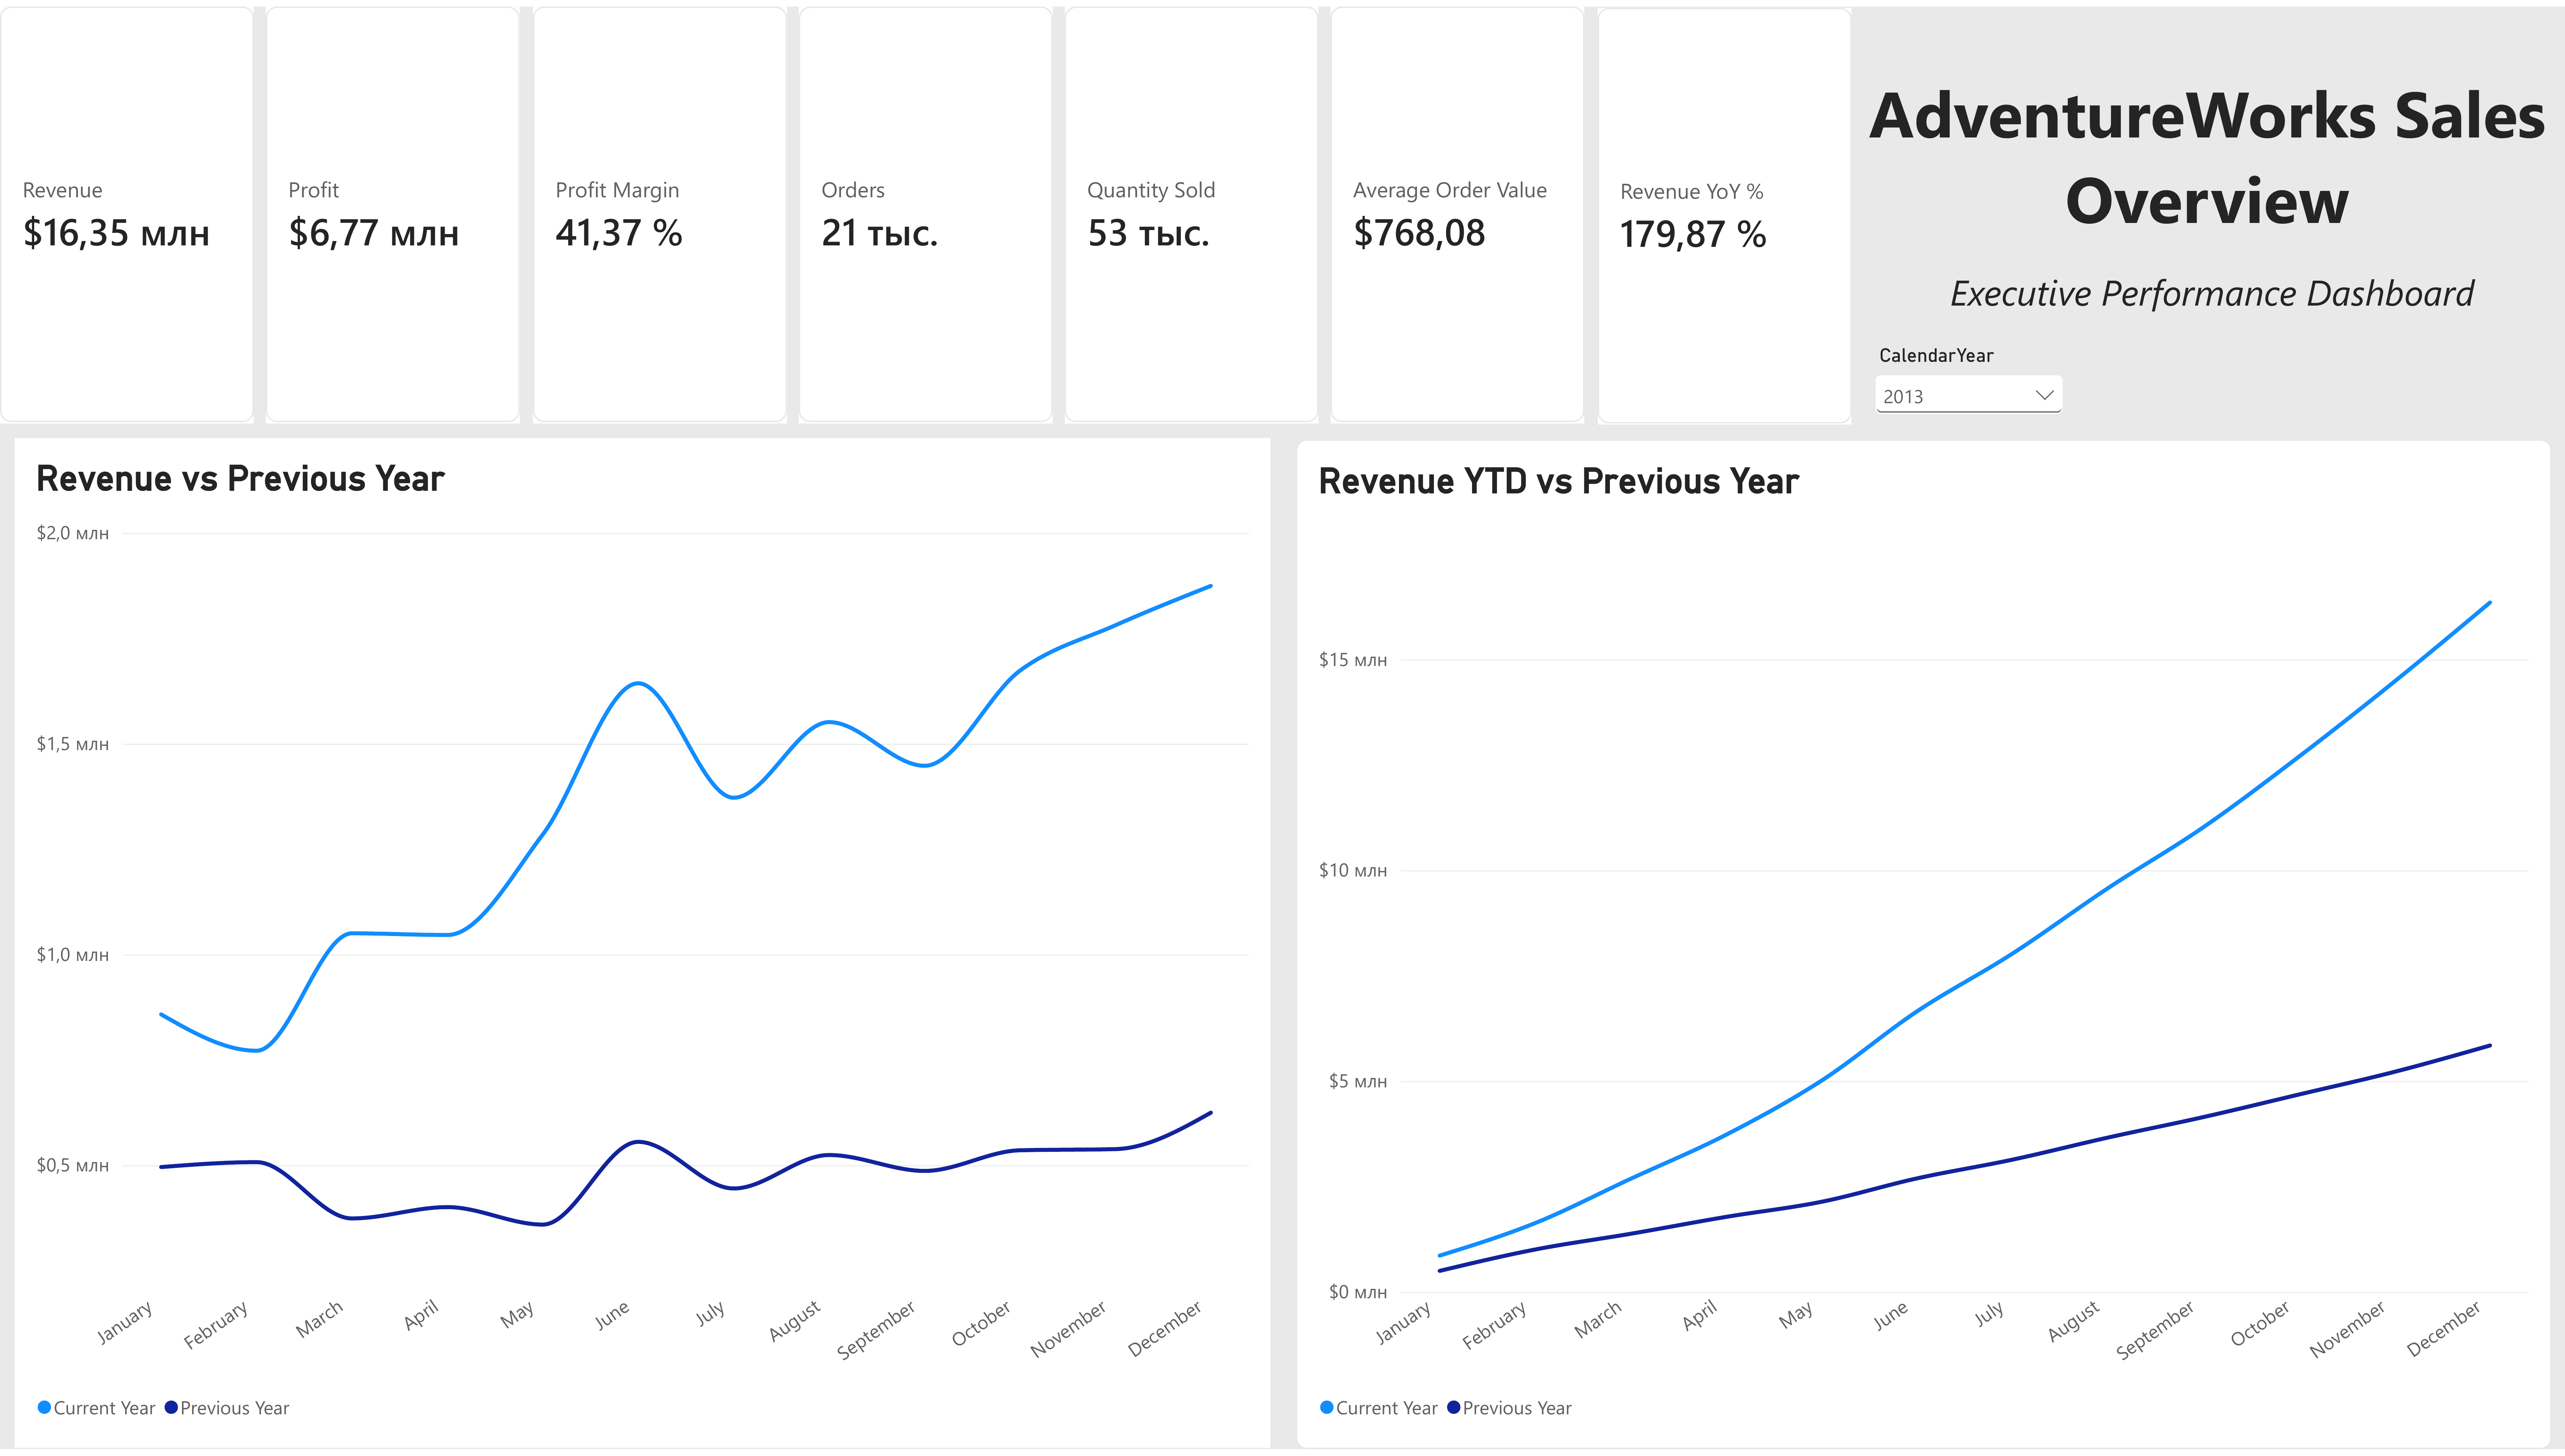

The dashboard page shown, as its layout file describes it:
{"tool":"powerbi","page":{"name":"Executive Overview","canvas":[1920,1080],"ordinal":0},"visuals":[{"type":"cardVisual","fields":{"Data":["FactInternetSales.Average Order Value"]},"box":[996.4,0,190,311.7],"z":0},{"type":"cardVisual","fields":{"Data":["FactInternetSales.Orders"]},"box":[597.9,0,190,311.7],"z":1000},{"type":"cardVisual","fields":{"Data":["FactInternetSales.Profit"]},"box":[199.3,0,190,311.7],"z":2000},{"type":"cardVisual","fields":{"Data":["FactInternetSales.Profit Margin"]},"box":[398.6,0,190,311.7],"z":3000},{"type":"cardVisual","fields":{"Data":["FactInternetSales.Quantity Sold"]},"box":[797.1,0,190,311.7],"z":4000},{"type":"cardVisual","fields":{"Data":["FactInternetSales.Revenue"]},"box":[0,0,190,311.7],"z":5000},{"type":"cardVisual","fields":{"Data":["FactInternetSales.Revenue YoY %"]},"box":[1195.7,1.3,190,311.7],"z":6000},{"type":"lineChart","title":"Revenue vs Previous Year","fields":{"Category":["DimDate.EnglishMonthName"],"Y":["FactInternetSales.Revenue","FactInternetSales.Revenue Previous Year"]},"box":[10.6,322.8,940,756],"z":7000},{"type":"lineChart","title":"Revenue YTD vs Previous Year","fields":{"Category":["DimDate.EnglishMonthName"],"Y":["FactInternetSales.Revenue YTD","FactInternetSales.Revenue YTD Previous Year"]},"box":[969.9,323.8,939.5,756.2],"z":8000},{"type":"slicer","fields":{"Values":["DimDate.CalendarYear"]},"box":[1398.7,253.1,150,60],"z":9000},{"type":"textbox","box":[1385.1,27.3,534.9,168.2],"z":10000},{"type":"textbox","title":"Executive Performance Dashboard","box":[1385.1,195.5,534.9,47],"z":11000}]}

Visuals, with their boxes in screenshot pixels (x1, y1, x2, y2), scaled from the page's 1920x1080 canvas onto the 2565x1456 screenshot:
cardVisual - FactInternetSales.Average Order Value: 1331/0/1585/420
cardVisual - FactInternetSales.Orders: 799/0/1053/420
cardVisual - FactInternetSales.Profit: 266/0/520/420
cardVisual - FactInternetSales.Profit Margin: 533/0/786/420
cardVisual - FactInternetSales.Quantity Sold: 1065/0/1319/420
cardVisual - FactInternetSales.Revenue: 0/0/254/420
cardVisual - FactInternetSales.Revenue YoY %: 1597/2/1851/422
"Revenue vs Previous Year" lineChart: 14/435/1270/1454
"Revenue YTD vs Previous Year" lineChart: 1296/437/2551/1456
slicer - DimDate.CalendarYear: 1869/341/2069/422
textbox: 1850/37/2565/264
"Executive Performance Dashboard" textbox: 1850/264/2565/327
